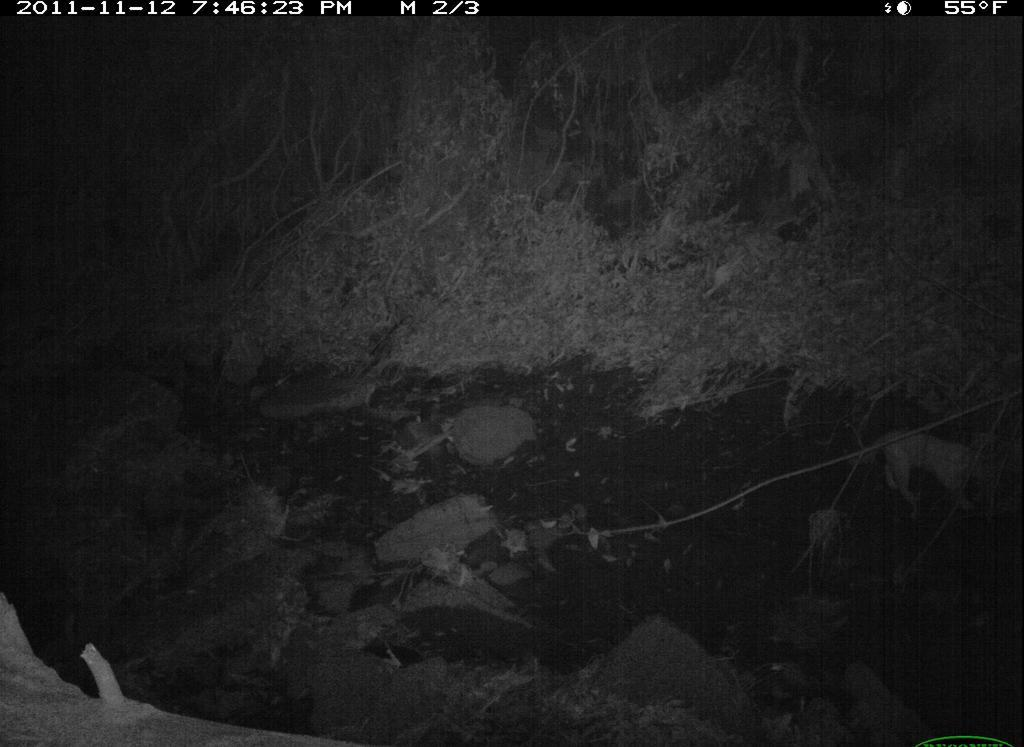cat: (850, 420, 998, 529)
